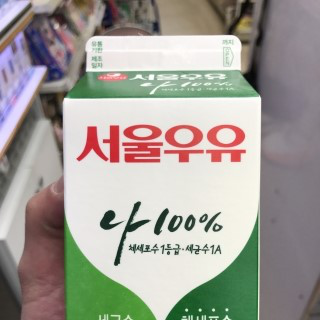milk: (62, 34, 261, 319)
